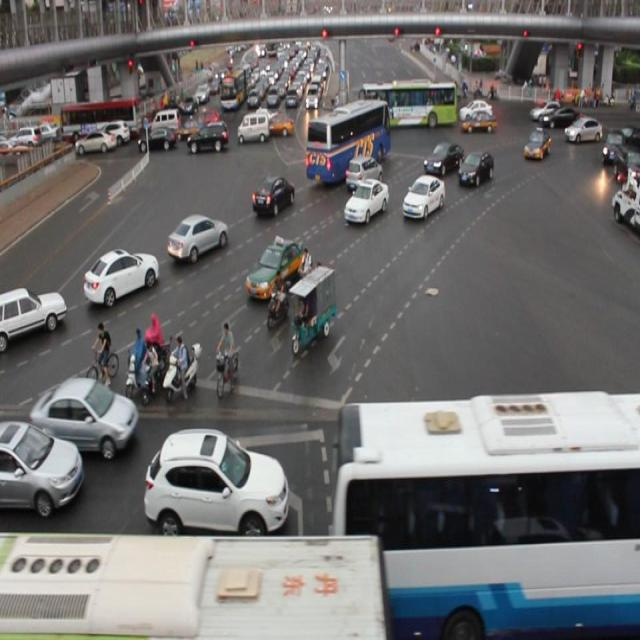BigCar: (332, 394, 640, 640), (4, 521, 388, 640), (305, 94, 388, 180), (354, 70, 460, 135), (63, 96, 138, 142)
car: (135, 409, 280, 550), (31, 367, 143, 448), (0, 414, 78, 510), (89, 240, 179, 318), (0, 266, 64, 362), (155, 191, 228, 272), (247, 224, 302, 308), (398, 176, 458, 249), (332, 169, 398, 230), (250, 170, 298, 214), (425, 132, 466, 181), (188, 113, 221, 168), (138, 119, 178, 162), (601, 116, 629, 176), (534, 98, 579, 132), (562, 109, 604, 145), (463, 88, 499, 121), (11, 118, 48, 150), (460, 152, 493, 187), (80, 129, 117, 160), (238, 107, 276, 136), (522, 129, 549, 167), (270, 106, 296, 144), (32, 108, 61, 142)
